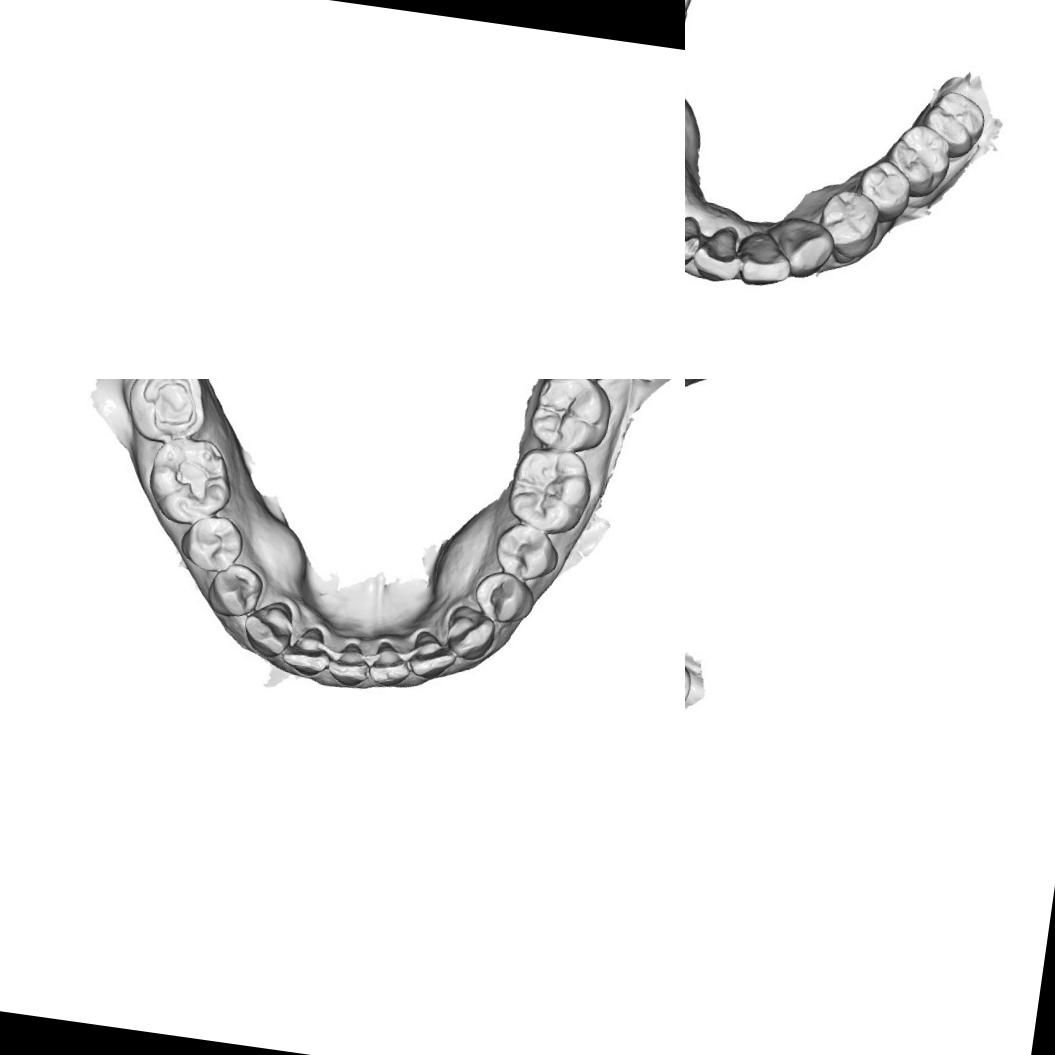canine: (776, 216, 835, 282), (240, 596, 297, 660), (442, 603, 498, 663)
incisor: (694, 217, 747, 286), (280, 622, 334, 680), (740, 226, 790, 288), (407, 628, 460, 682), (365, 638, 414, 689), (326, 638, 374, 689), (685, 212, 706, 269)
molar: (142, 432, 239, 530), (503, 443, 597, 539), (526, 379, 616, 455), (123, 379, 213, 449), (888, 122, 960, 194), (922, 88, 986, 152)
premolar: (812, 187, 880, 262), (176, 510, 246, 576), (492, 519, 562, 585), (470, 568, 538, 627), (855, 157, 914, 222), (204, 560, 266, 621)
